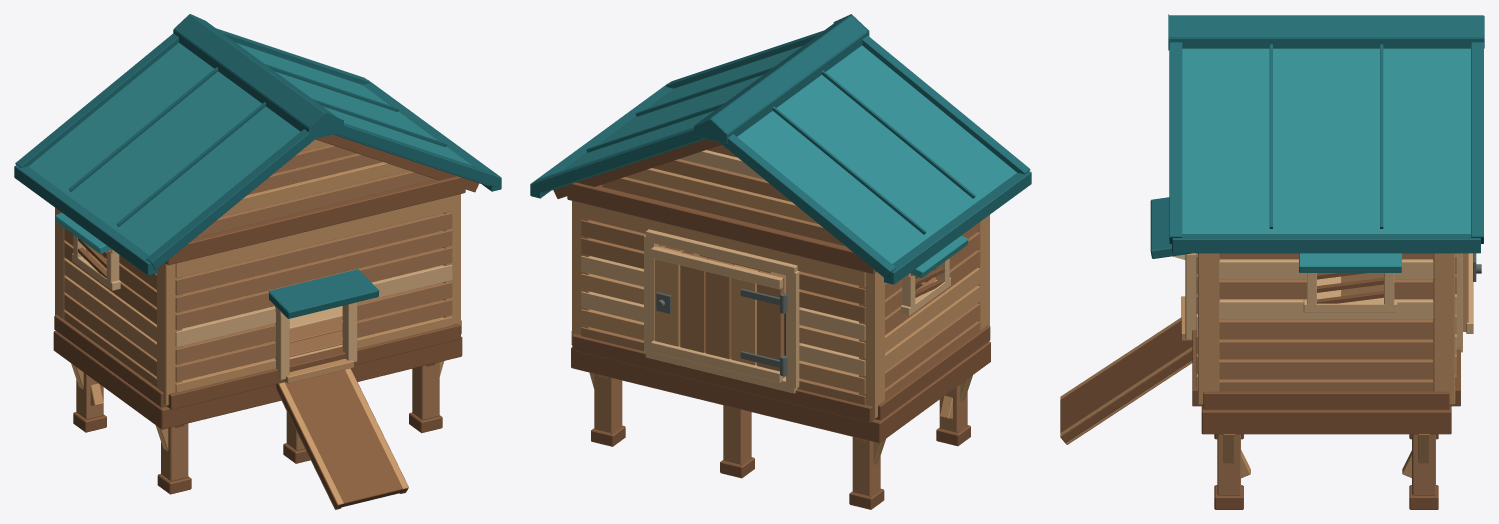
The picture shows the model from 3 angles, left to right: view 1: azimuth 30°, elevation 25°; view 2: azimuth 150°, elevation 25°; view 3: azimuth 270°, elevation 25°; orthographic projection. The views are drawn at different scales.
Parts seen in each view (by area): view 1: Thick teal pitched roof panel, Continuous ramp backing board, Continuous teal ridge cap, Front eave plate, Thick teal pitched roof panel.001, Front horizontal siding board.010, Front horizontal siding board.009, Front floor bearer, Front wall sill, Front horizontal siding board.011, Front horizontal siding board.008, Gable horizontal cedar board (+46 smaller); view 2: Thick teal pitched roof panel, Continuous teal ridge cap, Rear eave plate, Rear floor bearer, Thick teal pitched roof panel.001, Rear wall sill, Rear horizontal siding board.014, Gable horizontal cedar board.006, Rake edge roof trim.001, Teal eave fascia, Structural corner post.001, Gable horizontal cedar board.007 (+50 smaller); view 3: Thick teal pitched roof panel.001, Continuous teal ridge cap, Teal eave fascia.001, Continuous ramp backing board, Right floor bearer, Right wall sill, Side horizontal siding board.012, Side horizontal siding board.013, Side horizontal siding board.014, Structural corner post.003, Side horizontal siding board.015, Structural corner post.002 (+25 smaller).
Boxes of the visible parts, box(x1,y1,x2,y2) form: Thick teal pitched roof panel: box(28, 43, 300, 255); Continuous ramp backing board: box(276, 368, 408, 508); Continuous teal ridge cap: box(173, 14, 343, 140); Front eave plate: box(165, 176, 465, 265); Thick teal pitched roof panel.001: box(236, 43, 489, 186); Front horizontal siding board.010: box(175, 212, 452, 295); Front horizontal siding board.009: box(175, 230, 452, 312); Front floor bearer: box(152, 336, 462, 429); Front wall sill: box(166, 323, 460, 409); Front horizontal siding board.011: box(175, 196, 452, 277); Front horizontal siding board.008: box(175, 247, 452, 329); Gable horizontal cedar board: box(196, 170, 431, 237); Thick teal pitched roof panel: box(737, 45, 1016, 263); Continuous teal ridge cap: box(694, 14, 869, 143); Rear eave plate: box(567, 182, 876, 274); Rear floor bearer: box(571, 347, 889, 443); Thick teal pitched roof panel.001: box(542, 45, 803, 193); Rear wall sill: box(572, 334, 874, 422); Rear horizontal siding board.014: box(581, 203, 865, 287); Gable horizontal cedar board.006: box(602, 177, 844, 245); Rake edge roof trim.001: box(720, 134, 895, 278); Teal eave fascia: box(884, 171, 1031, 284); Structural corner post.001: box(859, 272, 884, 418); Gable horizontal cedar board.007: box(626, 168, 818, 224); Thick teal pitched roof panel.001: box(1182, 48, 1470, 233); Continuous teal ridge cap: box(1168, 14, 1484, 50); Teal eave fascia.001: box(1172, 234, 1480, 253); Continuous ramp backing board: box(1060, 321, 1192, 442); Right floor bearer: box(1210, 409, 1442, 434); Right wall sill: box(1203, 391, 1449, 409); Side horizontal siding board.012: box(1219, 359, 1433, 379); Side horizontal siding board.013: box(1219, 339, 1433, 359); Side horizontal siding board.014: box(1219, 319, 1433, 339); Structural corner post.003: box(1433, 253, 1455, 404); Side horizontal siding board.015: box(1219, 297, 1433, 319); Structural corner post.002: box(1198, 253, 1219, 404).
Bounding box in the file's own units: 2.57 × 2.52 × 2.31.
